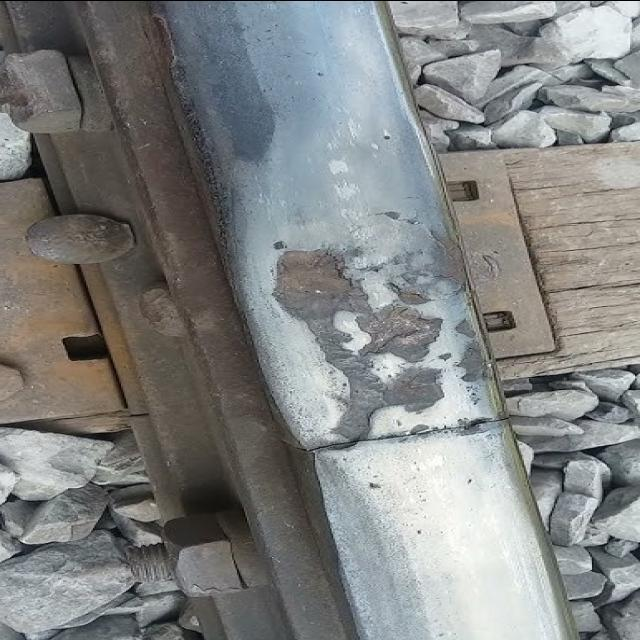broken_rail_medium: (375, 132, 395, 142), (314, 71, 328, 77)
railway_join_bar_defects_low: (266, 238, 450, 444)
squats_high: (453, 339, 497, 383), (370, 208, 426, 226), (450, 315, 480, 338), (432, 351, 454, 360), (270, 240, 286, 250), (363, 481, 381, 489)
squats_low: (420, 226, 473, 294), (381, 282, 436, 307)
